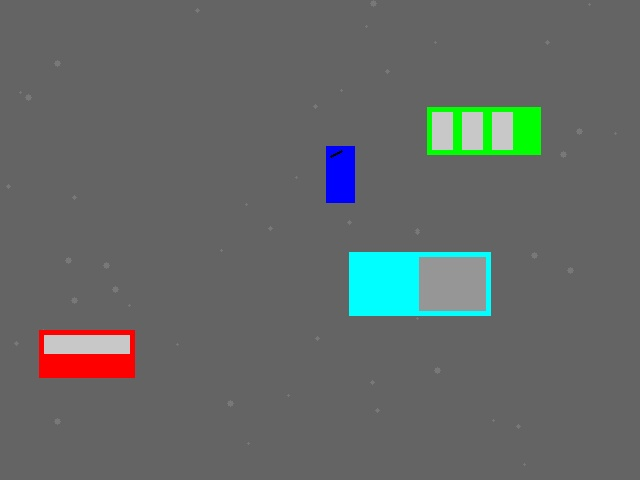bus: (427, 107, 540, 154)
car: (39, 330, 134, 377)
motorcycle: (326, 146, 354, 202)
truck: (349, 252, 490, 315)
